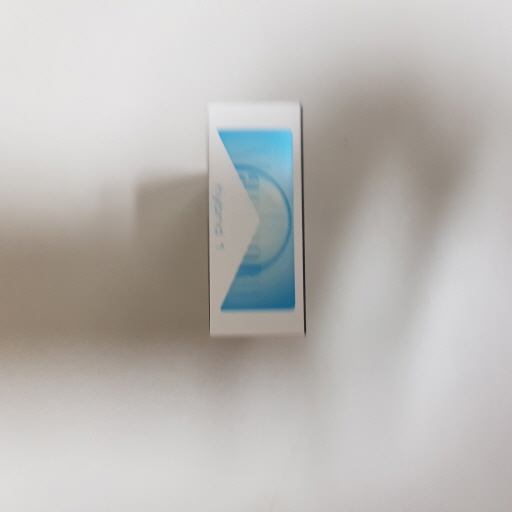Paper_0: (187, 96, 318, 359)
